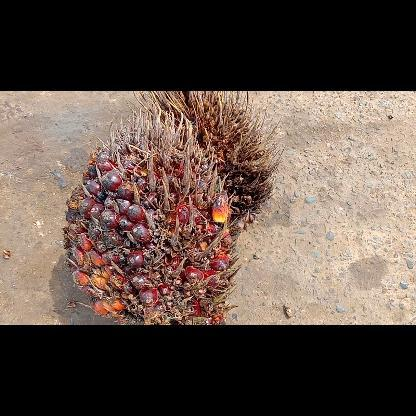Janjang kosong: (133, 90, 283, 233)
TBS masak: (63, 106, 241, 324)
